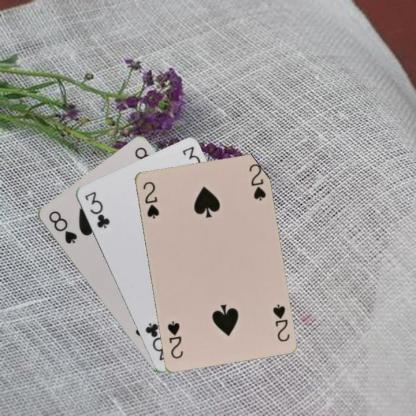2s: (140, 178, 160, 221), (270, 302, 290, 342)
3c: (81, 189, 111, 230)
8s: (46, 208, 78, 246)
